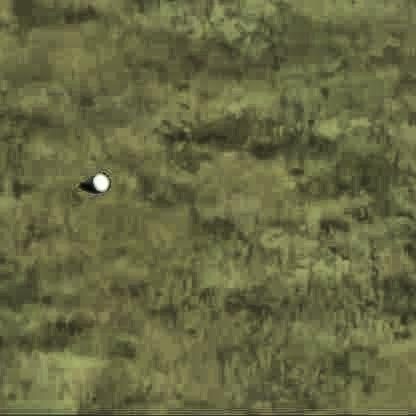golfball: (88, 171, 110, 190)
